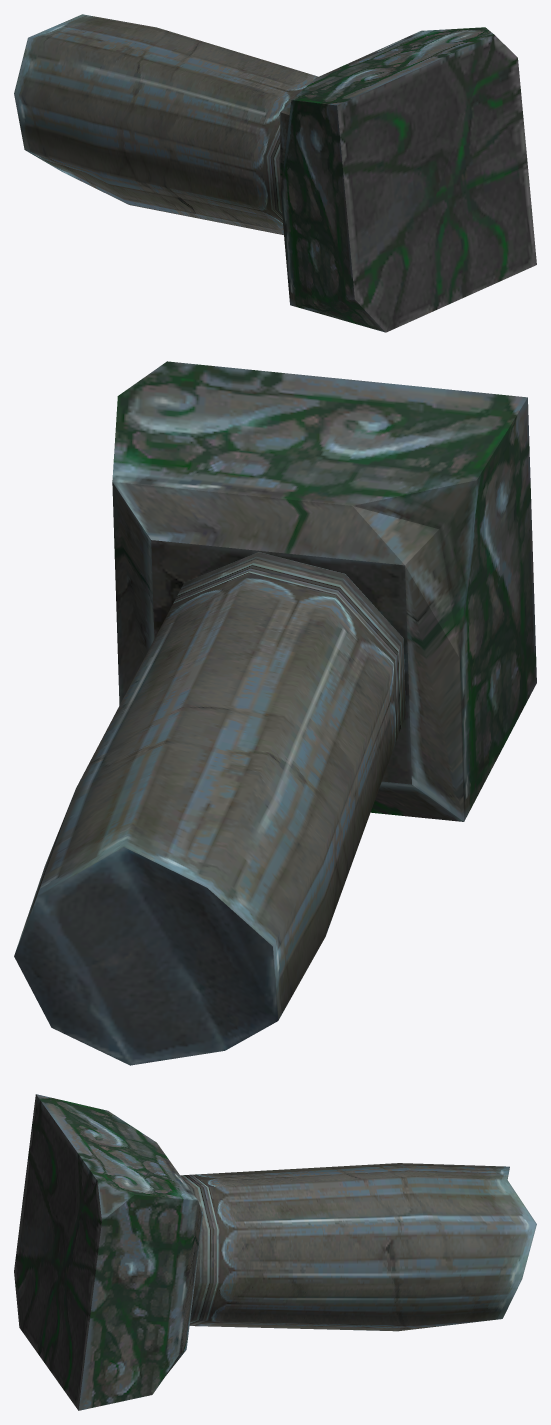
File: stemple_pillar_07.fbx
3 renders of one model, top to bottom at view 1: azimuth 30°, elevation 25°; view 2: azimuth 150°, elevation 25°; view 3: azimuth 270°, elevation 25°, orthographic. The views are drawn at different scales.
Visible parts, largest first — view 1: sunken_tileset/sunken_wall_convex02_mat; view 2: sunken_tileset/sunken_wall_convex02_mat; view 3: sunken_tileset/sunken_wall_convex02_mat.
Boxes of the visible parts, x1=… form: sunken_tileset/sunken_wall_convex02_mat: x1=14, y1=14, x2=536, y2=332; sunken_tileset/sunken_wall_convex02_mat: x1=14, y1=361, x2=536, y2=1065; sunken_tileset/sunken_wall_convex02_mat: x1=14, y1=1094, x2=536, y2=1410.
Size of the model in its own units: 3.06 by 2.3 by 4.87.
